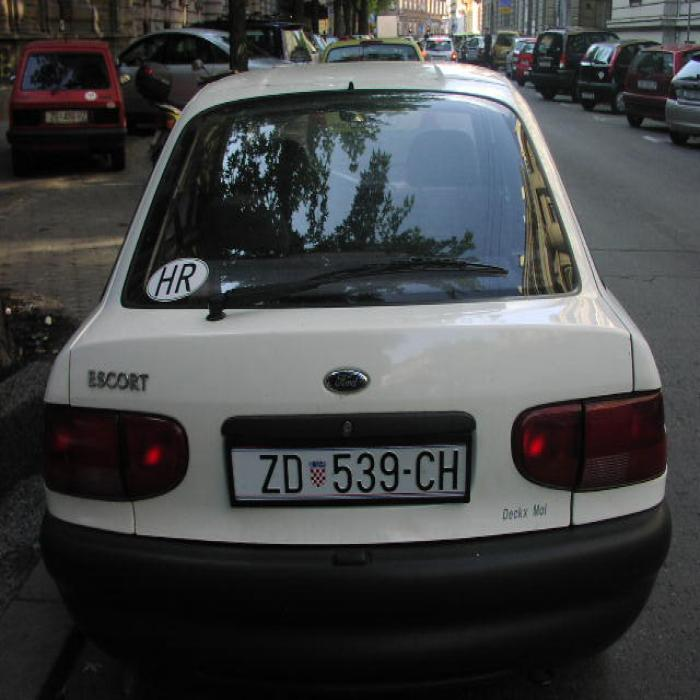number_plate: (228, 448, 464, 494)
